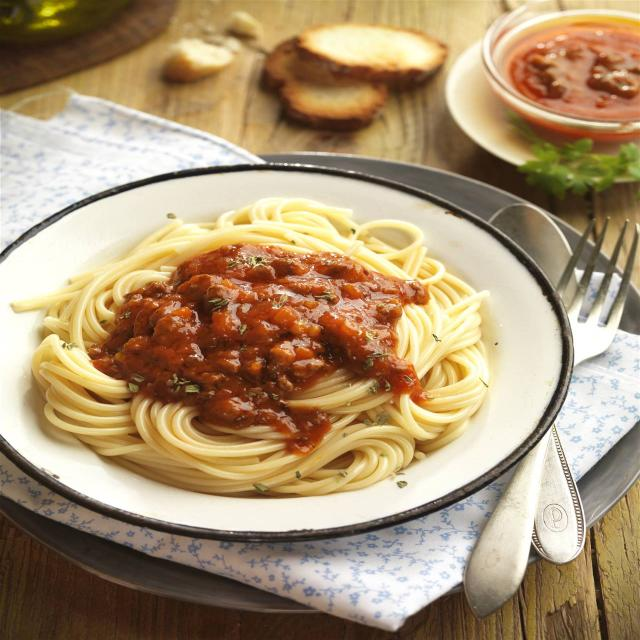pasta: (19, 180, 494, 505)
